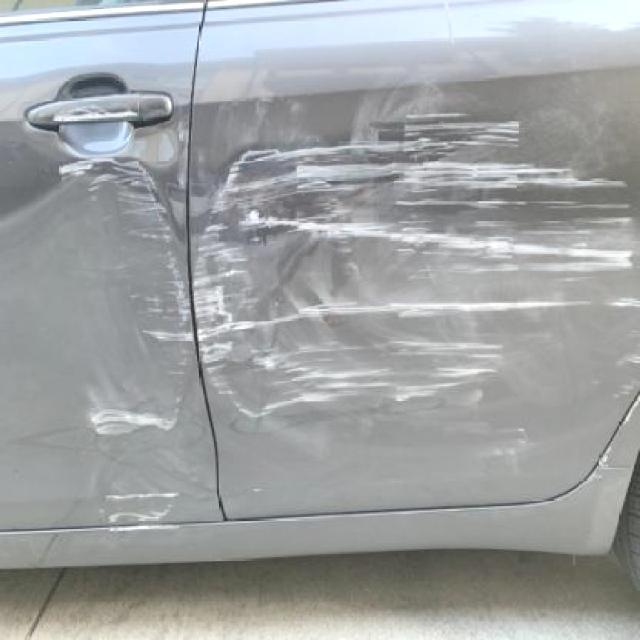minor: (617, 352, 640, 368)
moderate: (200, 117, 617, 438), (38, 162, 186, 442), (96, 478, 181, 524), (48, 108, 128, 120)
